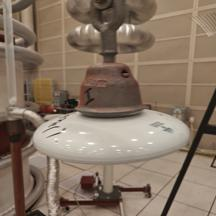insulator: (19, 57, 198, 167)
